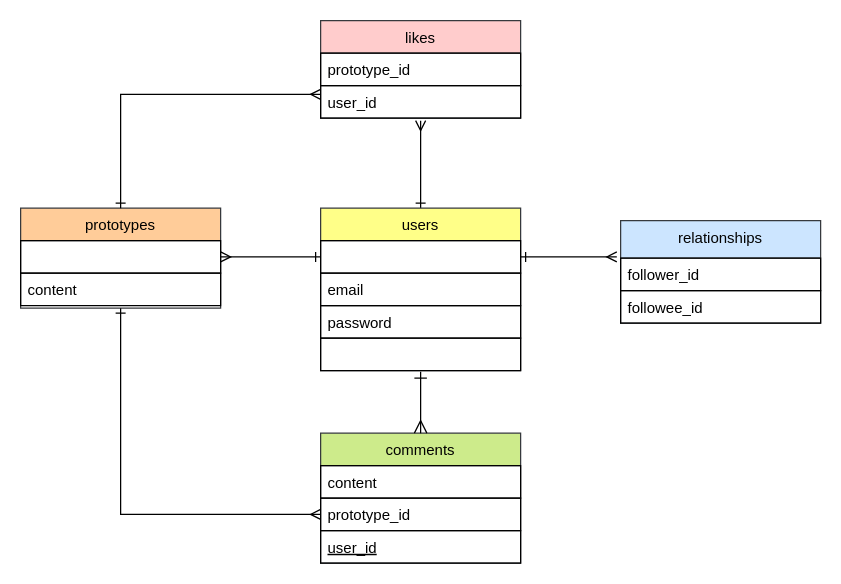
Some shapes in this 841 by 584 pixel diagram are drawn without their labels. Each missing label, with the centre of its shape:
image: point 120,256
name: point 420,256
profile: point 420,354
